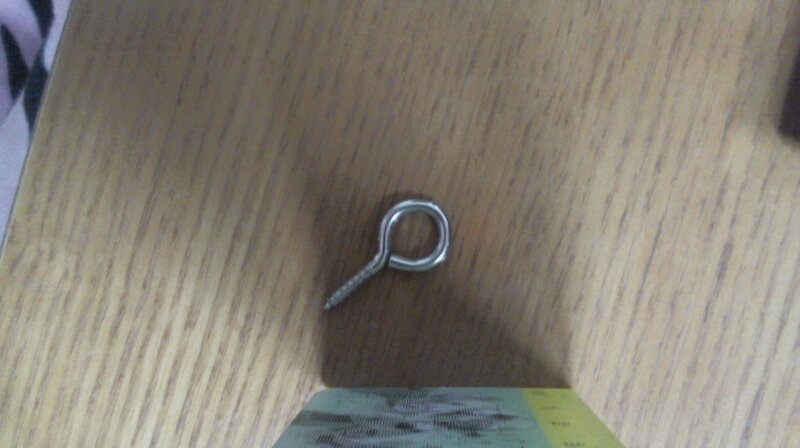O001: (318, 193, 455, 317)
